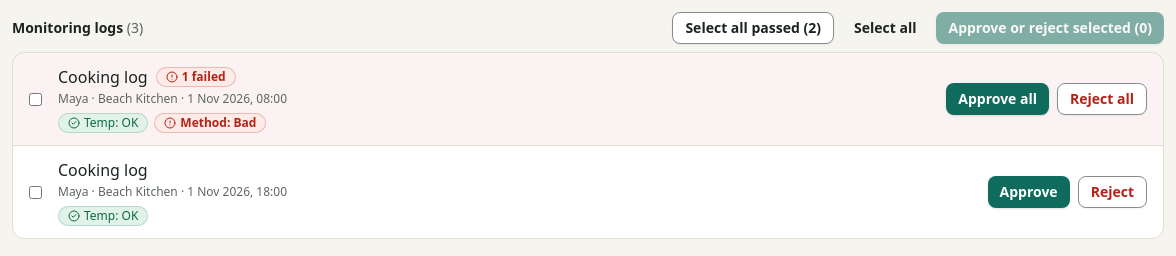
Test: ApprovalsTab › shows one row per visit with every reading as a chip, and can pick only the passed ones
Check: the number of list items is 2, box [13,53,1163,146]; [13,146,1163,238]
Check: the text "Method: Bad" is shown, box [154,113,266,133]
Click the button "Select all passed (2)". click: [753, 28]
box: [672,12,834,44]
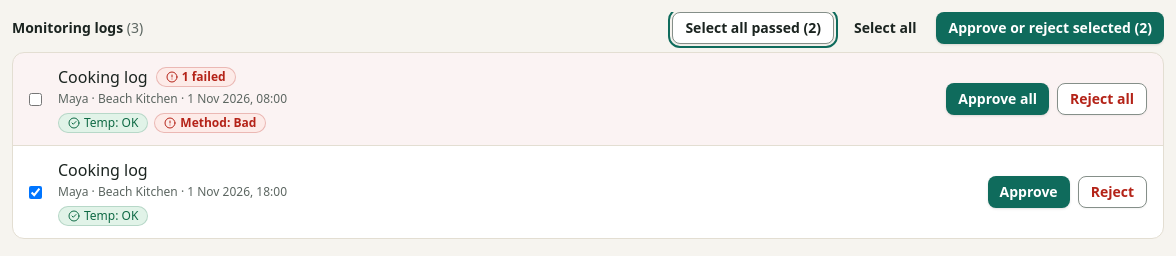
Check: the button "Approve or reject selected (2)" is shown, box [936,12,1164,44]
